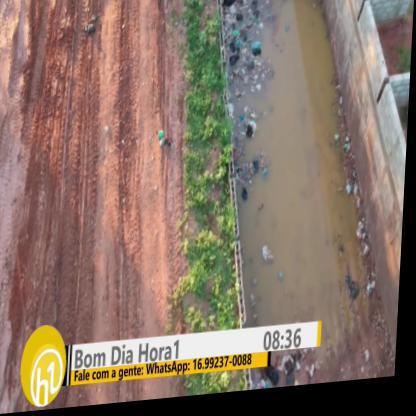agua: (250, 5, 324, 331)
